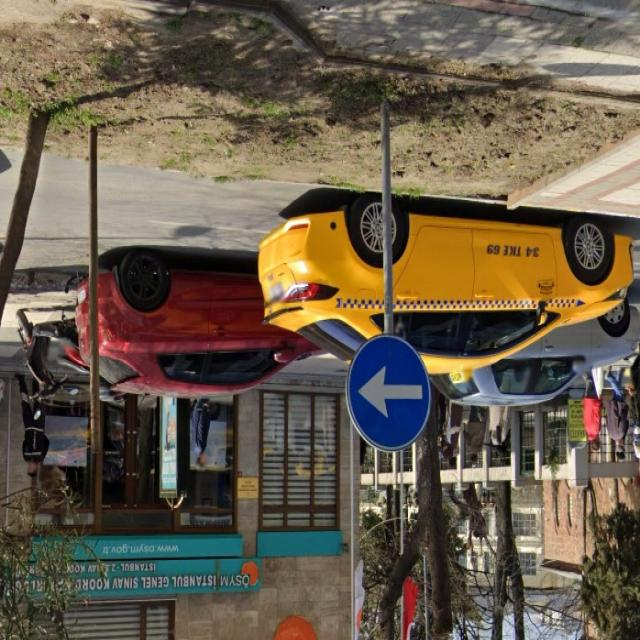Turn Left: (347, 333, 432, 453)
